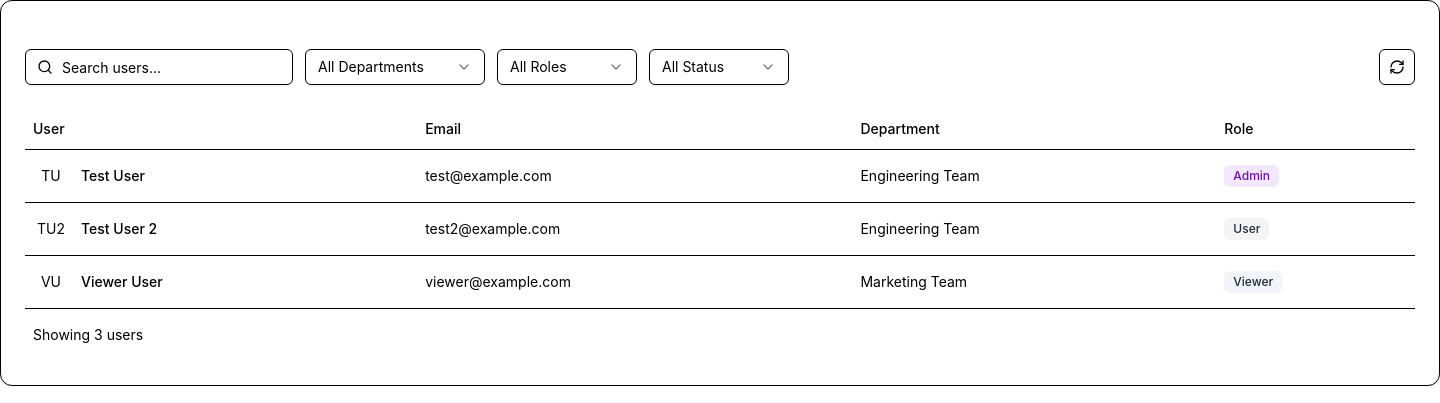
it: UsersTable › handles search with special characters safely
In the field with placeholder "Search users...": (159,67) [25,49,293,85], type "<script>alert('xss')</script>"
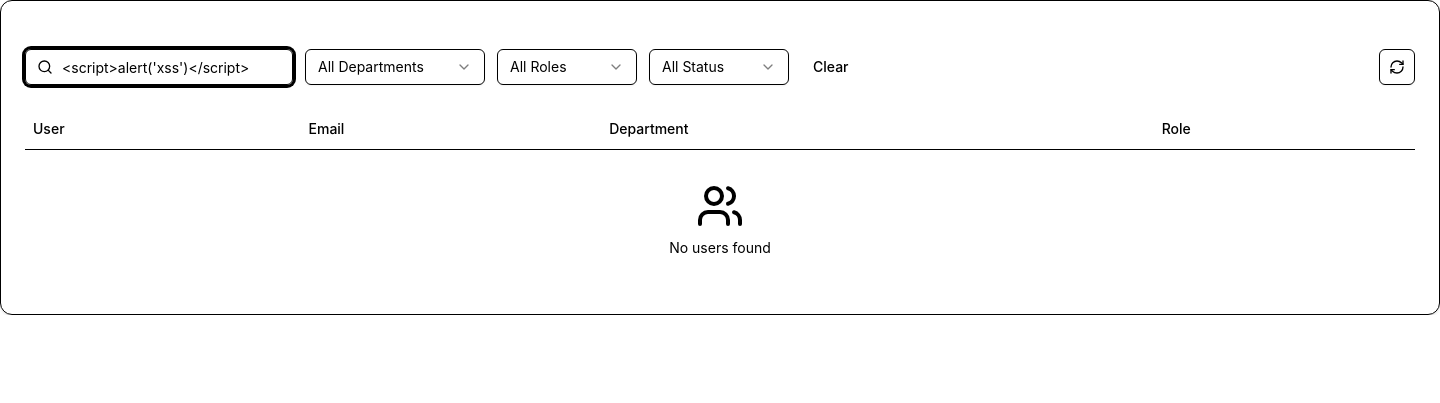
Expected: the text "No users found" is shown, [669,238,771,256]
